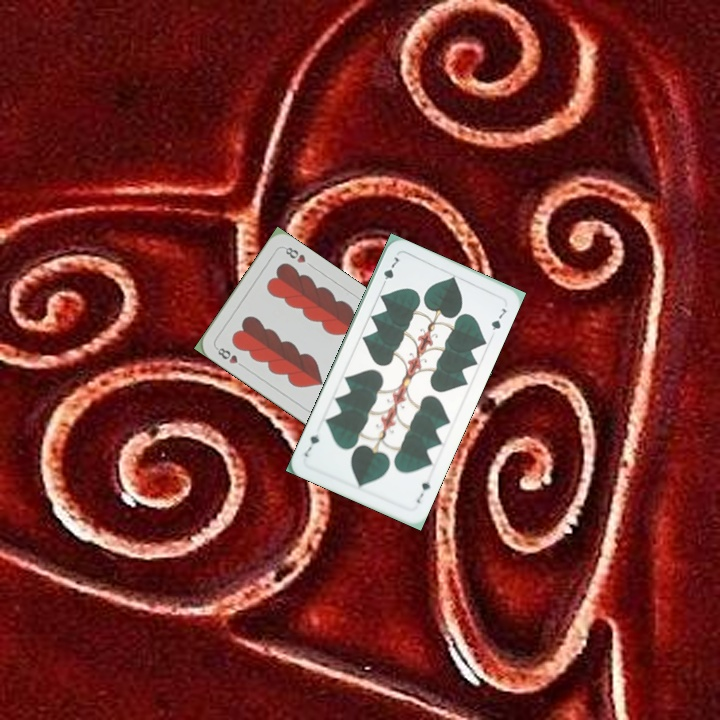G7: (378, 252, 402, 290), (412, 477, 433, 506)
H8: (212, 343, 248, 371)
